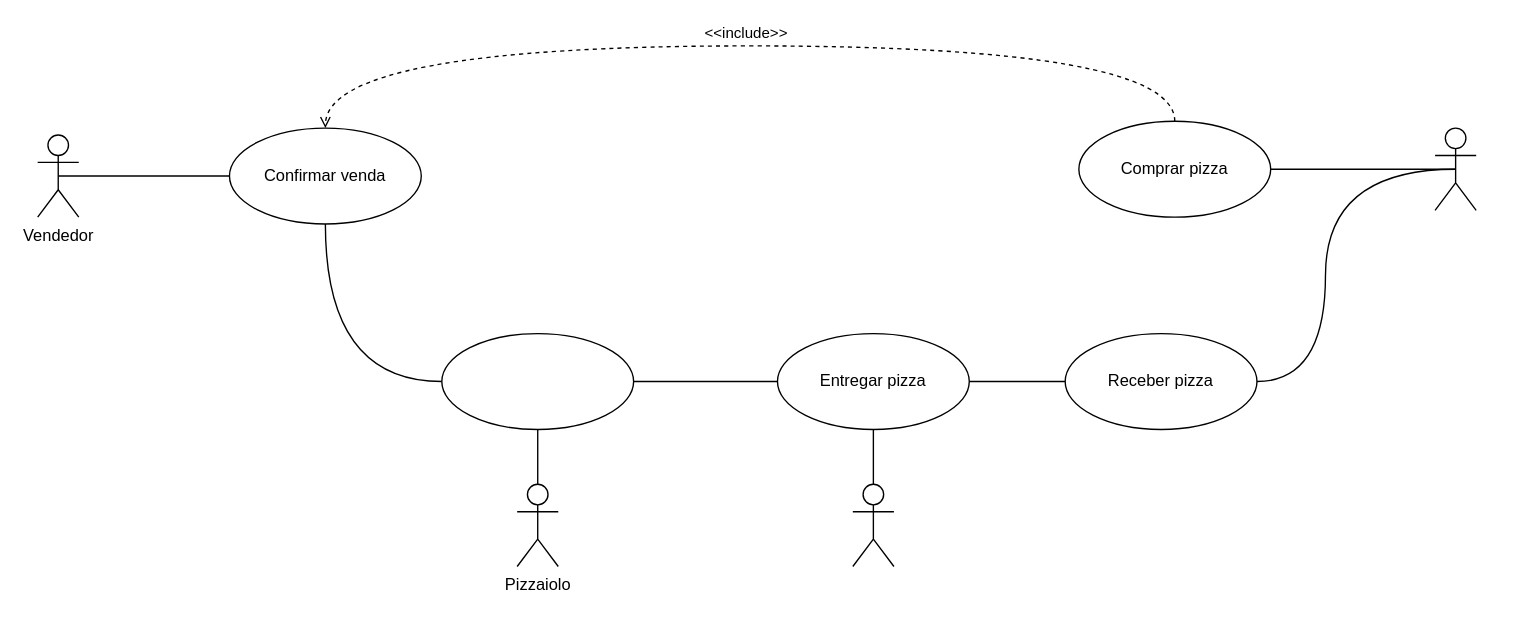
This 1521x618 diagram has some shape labels left out. Each missing label, with the box of its shape:
Comprador: (1434, 127, 1476, 210)
Entregador: (851, 483, 894, 566)
Fazer pizza: (440, 332, 634, 429)
